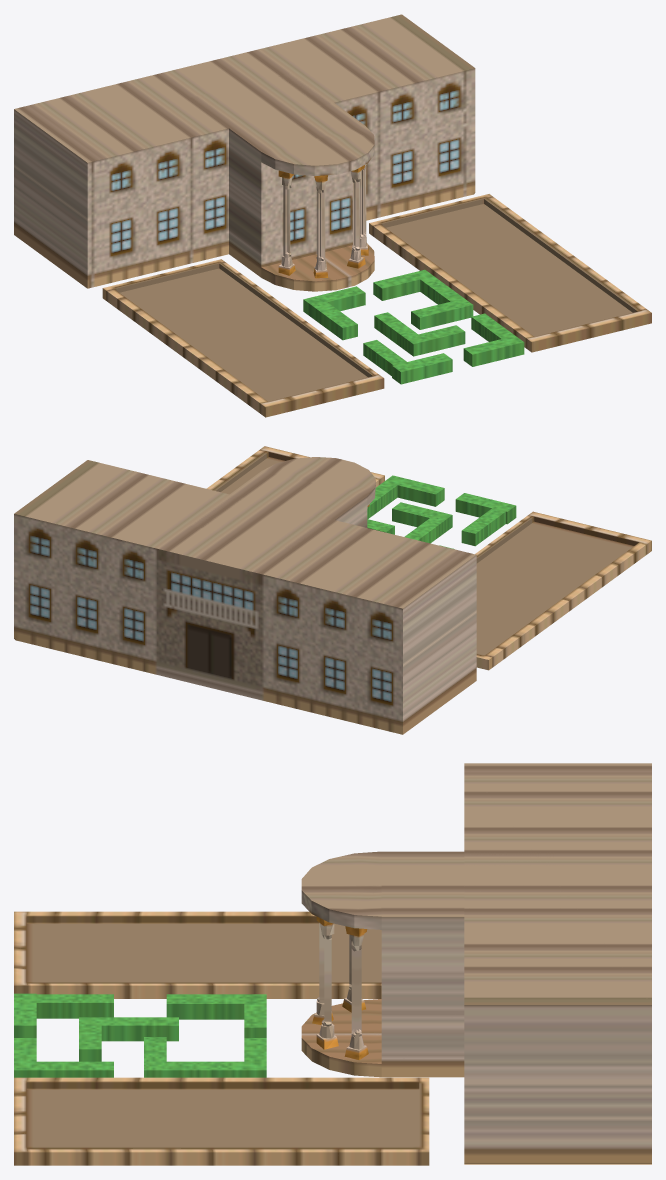
Rendered from Mansion.glb.
3 renders of one model, top to bottom at view 1: azimuth 30°, elevation 25°; view 2: azimuth 150°, elevation 25°; view 3: azimuth 270°, elevation 25°, orthographic. The views are drawn at different scales.
Visible parts, largest first — view 1: Mansion; view 2: Mansion; view 3: Mansion.
Part boxes in pixels (box(x1,y1,x2,y2)): Mansion: box(14, 14, 651, 417); Mansion: box(14, 446, 651, 734); Mansion: box(14, 763, 651, 1165).
Size of the model in its own units: 171 by 52.93 by 191.
1 material, 1 textured.
